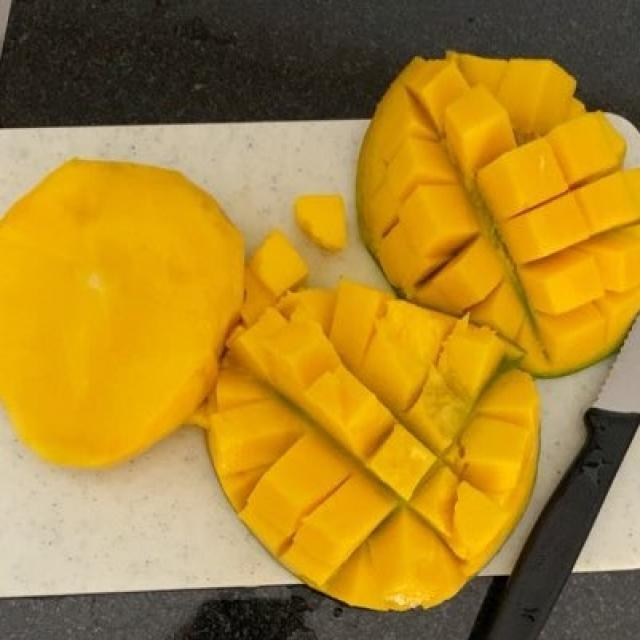mango: (10, 68, 614, 596)
